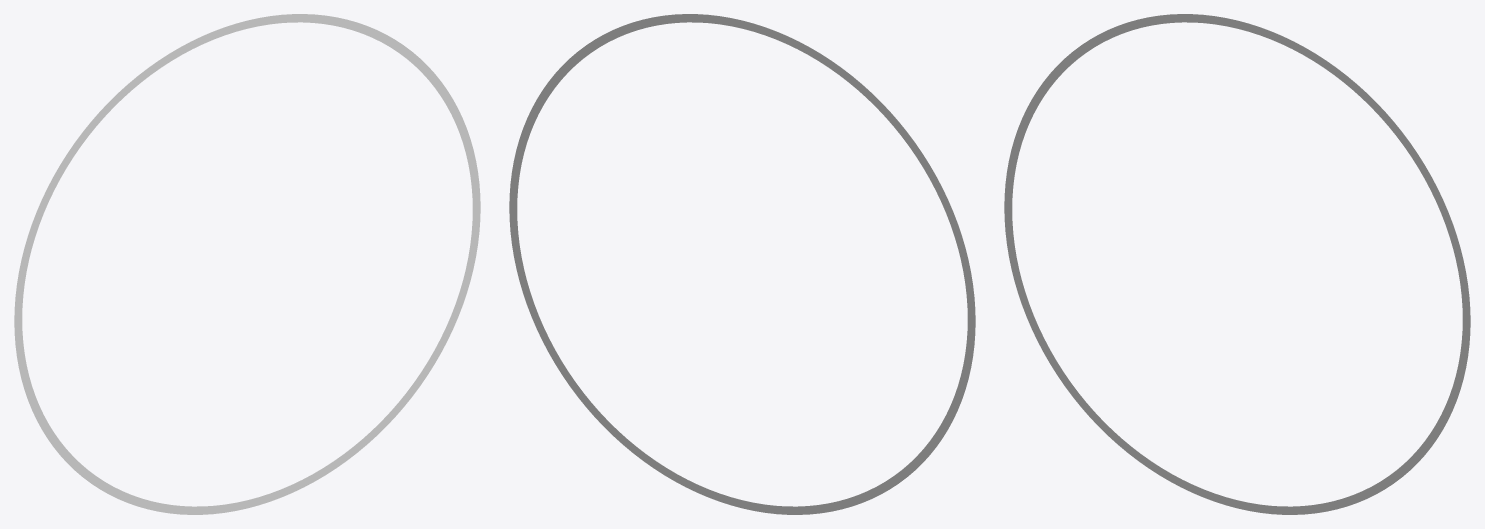
The model's file is RingGlow1.obj.
3 views of the same model, side by side, from view 1: azimuth 30°, elevation 25°; view 2: azimuth 150°, elevation 25°; view 3: azimuth 330°, elevation 25° (orthographic).
Parts seen in each view (by area): view 1: RingGlow1; view 2: RingGlow1; view 3: RingGlow1.
Part boxes in pixels (left/top/right/bottom): RingGlow1: left=14, top=14, right=480, bottom=514; RingGlow1: left=509, top=14, right=975, bottom=514; RingGlow1: left=1004, top=14, right=1470, bottom=514.
Size of the model in its own units: 22.38 by 22.38 by 0.
1 material, 1 textured.
